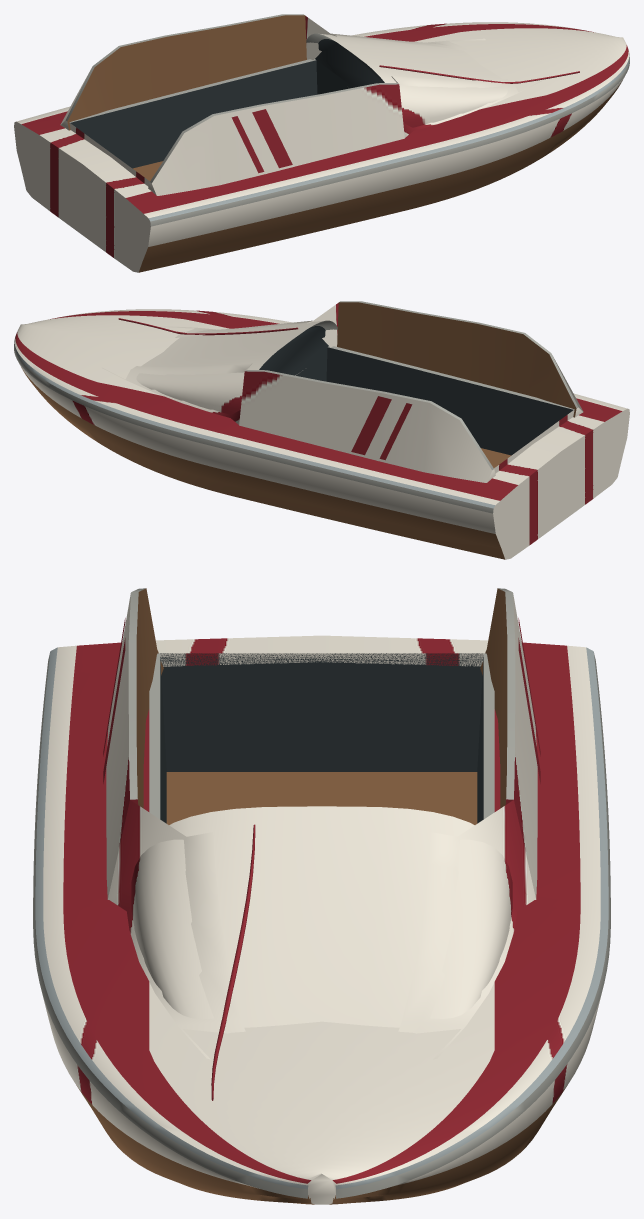
Rendered from Hull_07_N_生成・紅緒.glb.
The picture shows the model from 3 angles, top to bottom: view 1: azimuth 30°, elevation 25°; view 2: azimuth 150°, elevation 25°; view 3: azimuth 270°, elevation 25°; orthographic projection. The views are drawn at different scales.
Parts seen in each view (by area): view 1: Hull_07_N; view 2: Hull_07_N; view 3: Hull_07_N.
Part boxes in pixels (box(x1,y1,x2,y2)): Hull_07_N: box(14, 14, 629, 272); Hull_07_N: box(14, 301, 629, 559); Hull_07_N: box(33, 588, 610, 1204).
Bounding box in the file's own units: 2.9 × 0.6856 × 1.34.
Materials: 4 (4 with a texture image).
